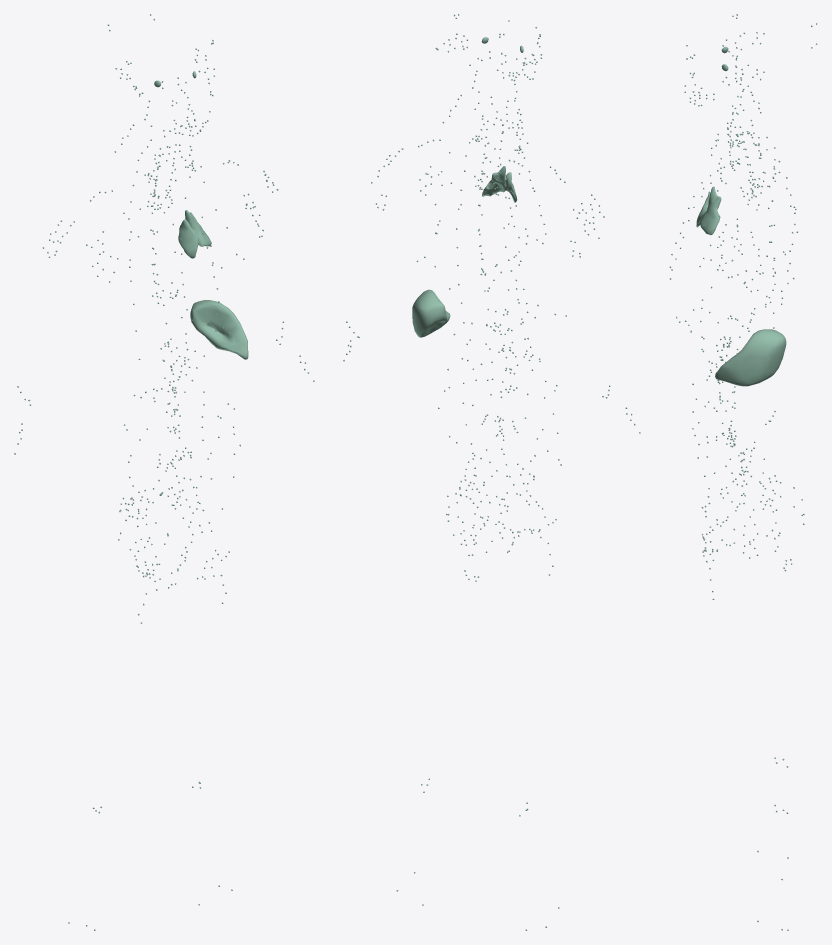
Rendered from lymphoid.glb.
3 views of the same model, side by side, from view 1: azimuth 30°, elevation 25°; view 2: azimuth 150°, elevation 25°; view 3: azimuth 270°, elevation 25° (orthographic).
Parts seen in each view (by area): view 1: lymphoid; view 2: lymphoid; view 3: lymphoid.
Boxes of the visible parts, x1,y1,x2,y2 form: lymphoid: [14, 14, 314, 930]; lymphoid: [343, 14, 640, 930]; lymphoid: [669, 14, 817, 930].
Size of the model in its own units: 0.4522 by 1.28 by 0.1961.
